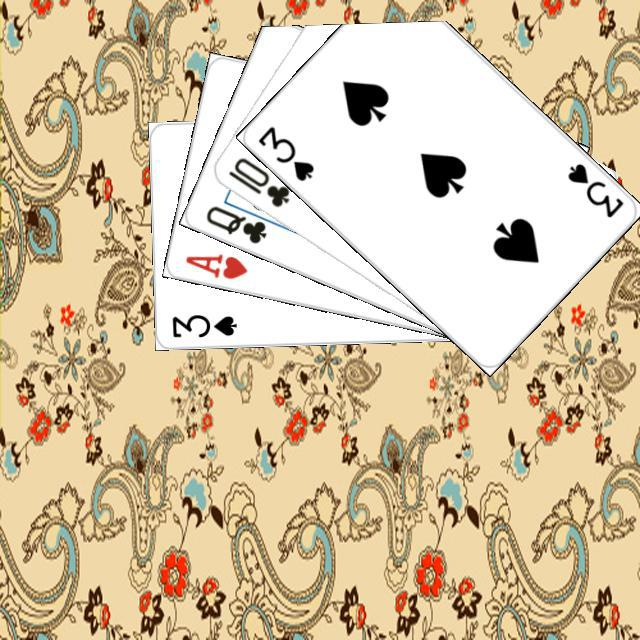10c: (223, 152, 291, 209)
3s: (562, 158, 626, 220), (253, 121, 316, 183), (167, 309, 239, 340)
Ah: (180, 249, 250, 281)
Qc: (201, 193, 280, 246)
